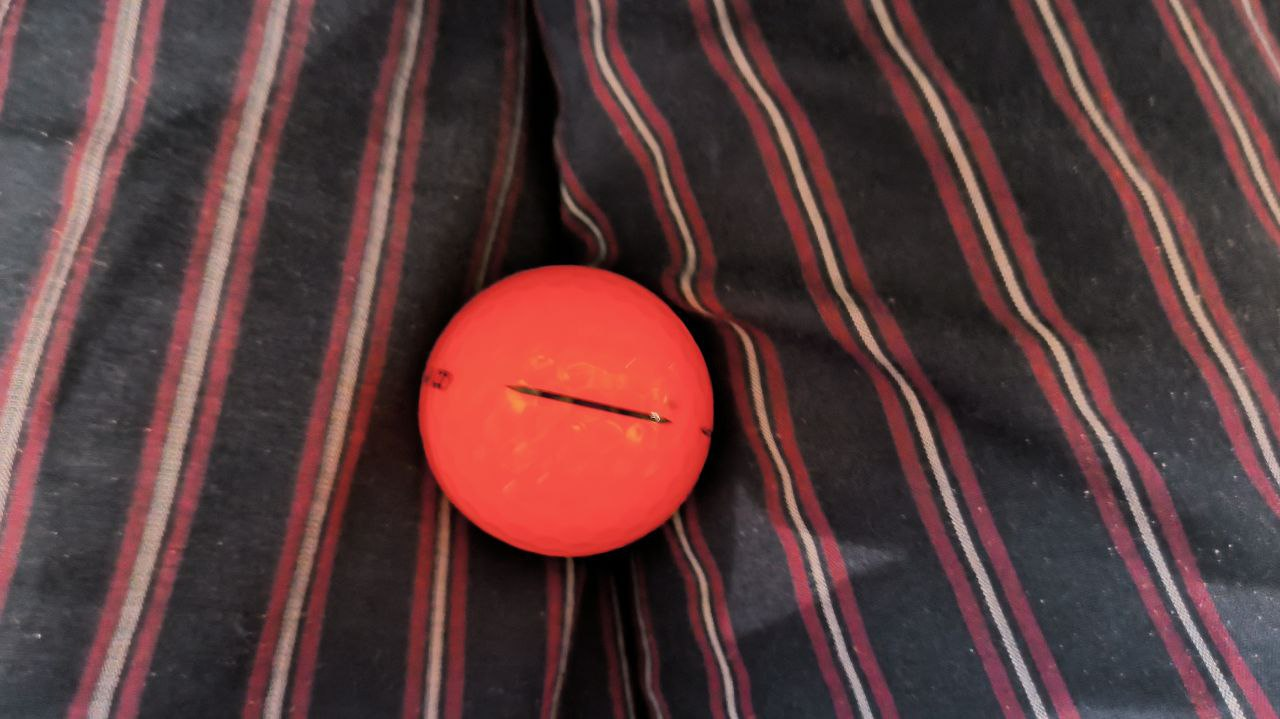orange_ball: (417, 264, 715, 557)
